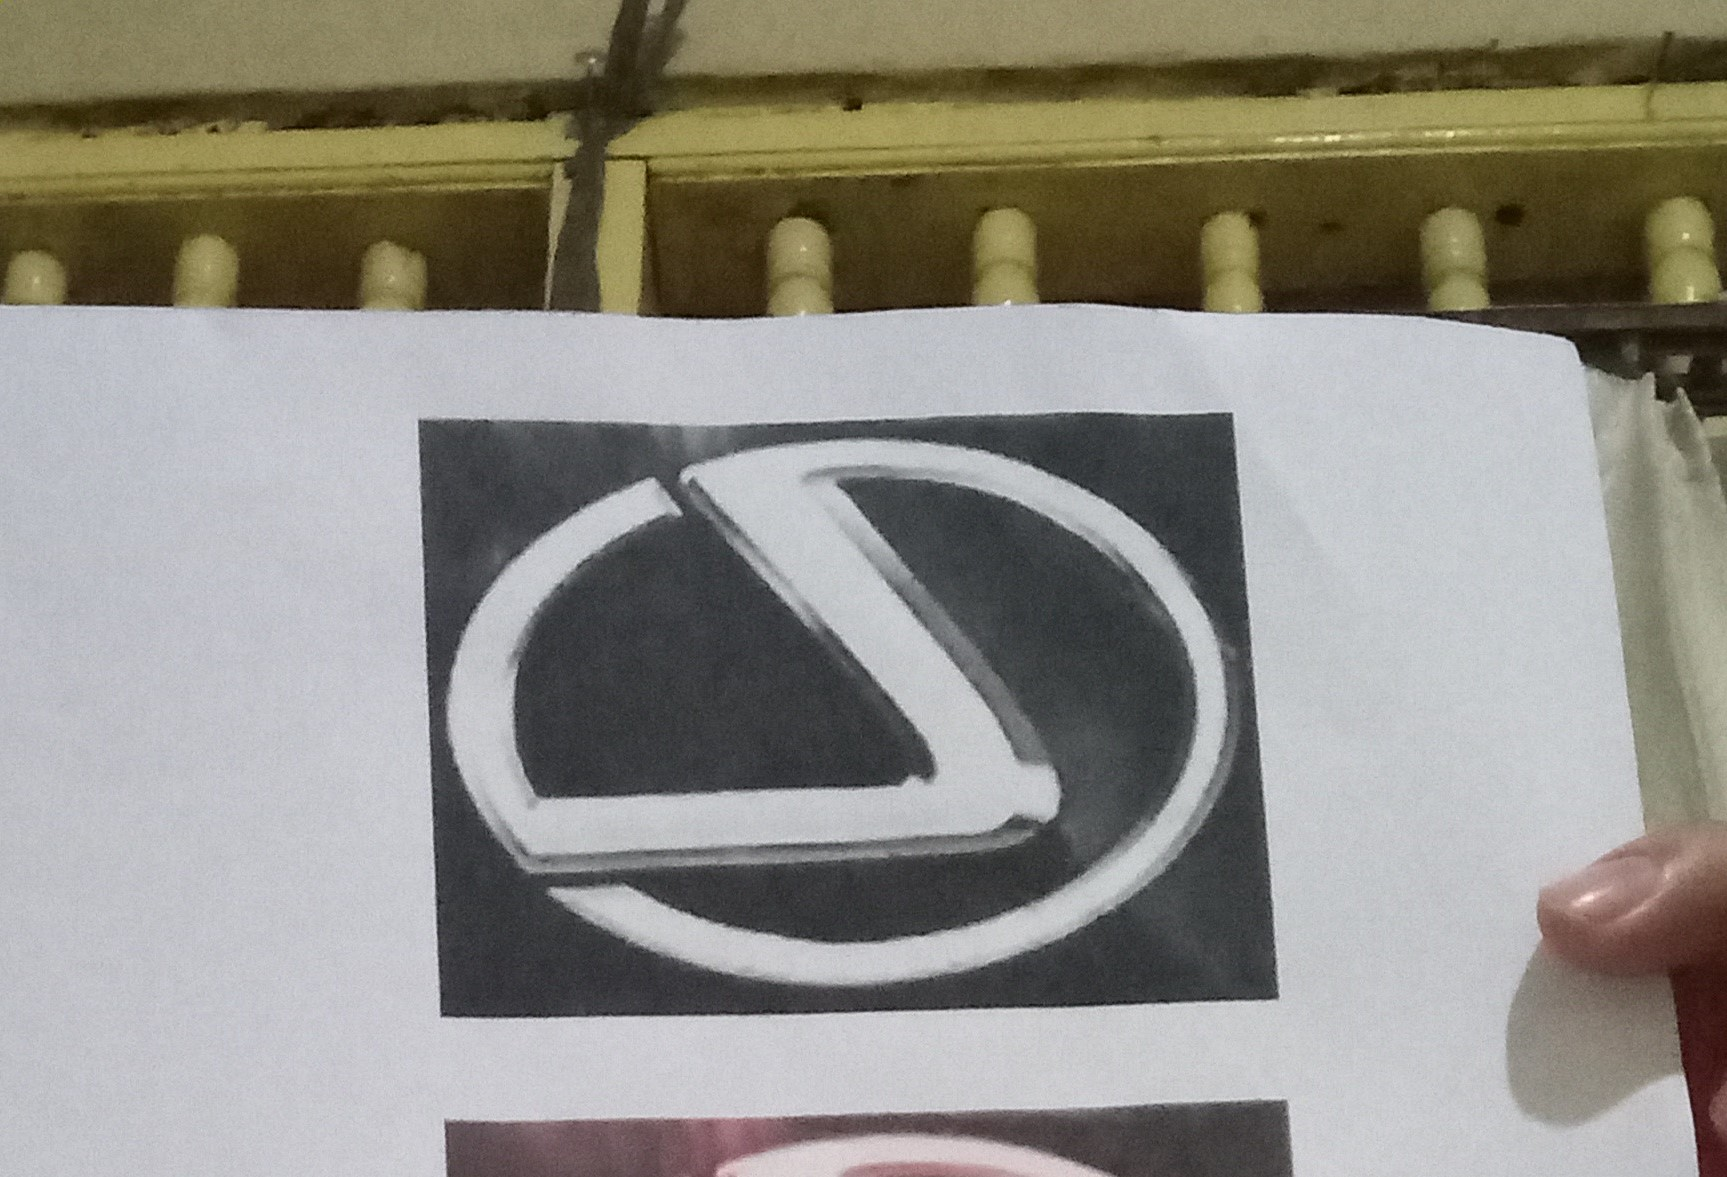Lexus: (430, 426, 1247, 995)
